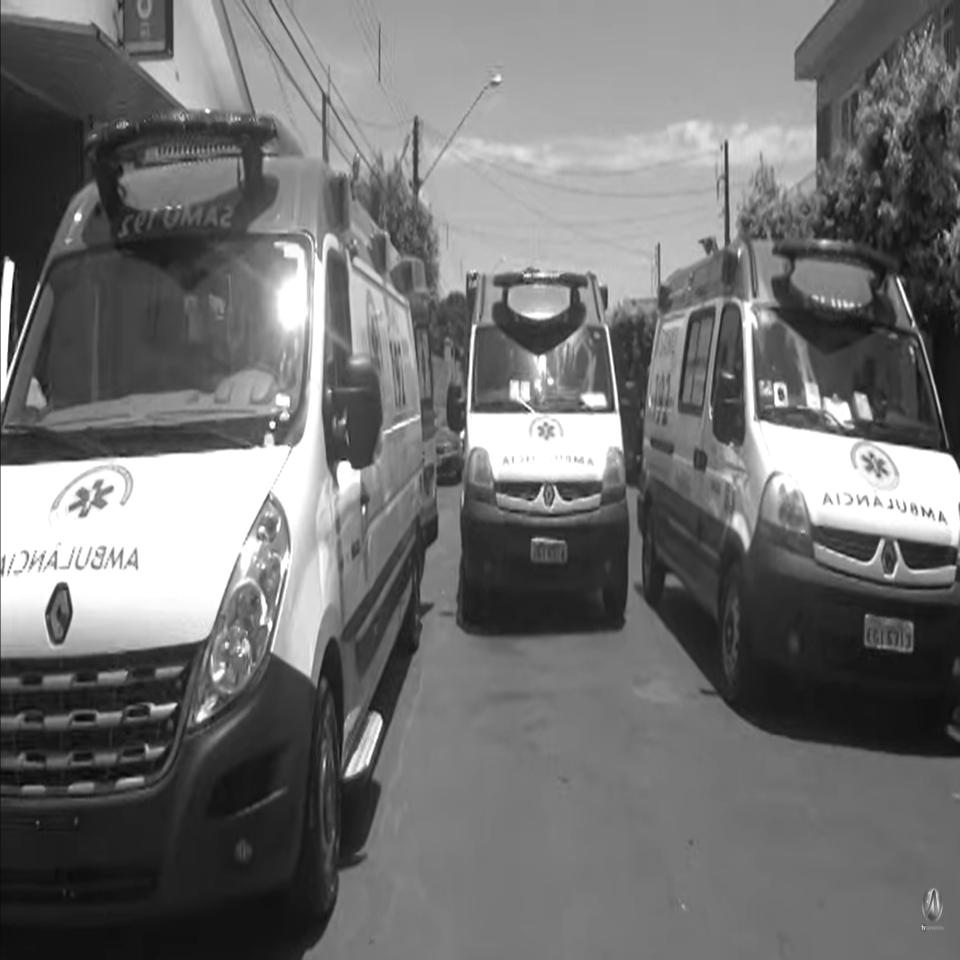ambulancia: (0, 107, 426, 935), (639, 236, 960, 746), (446, 266, 632, 632)
